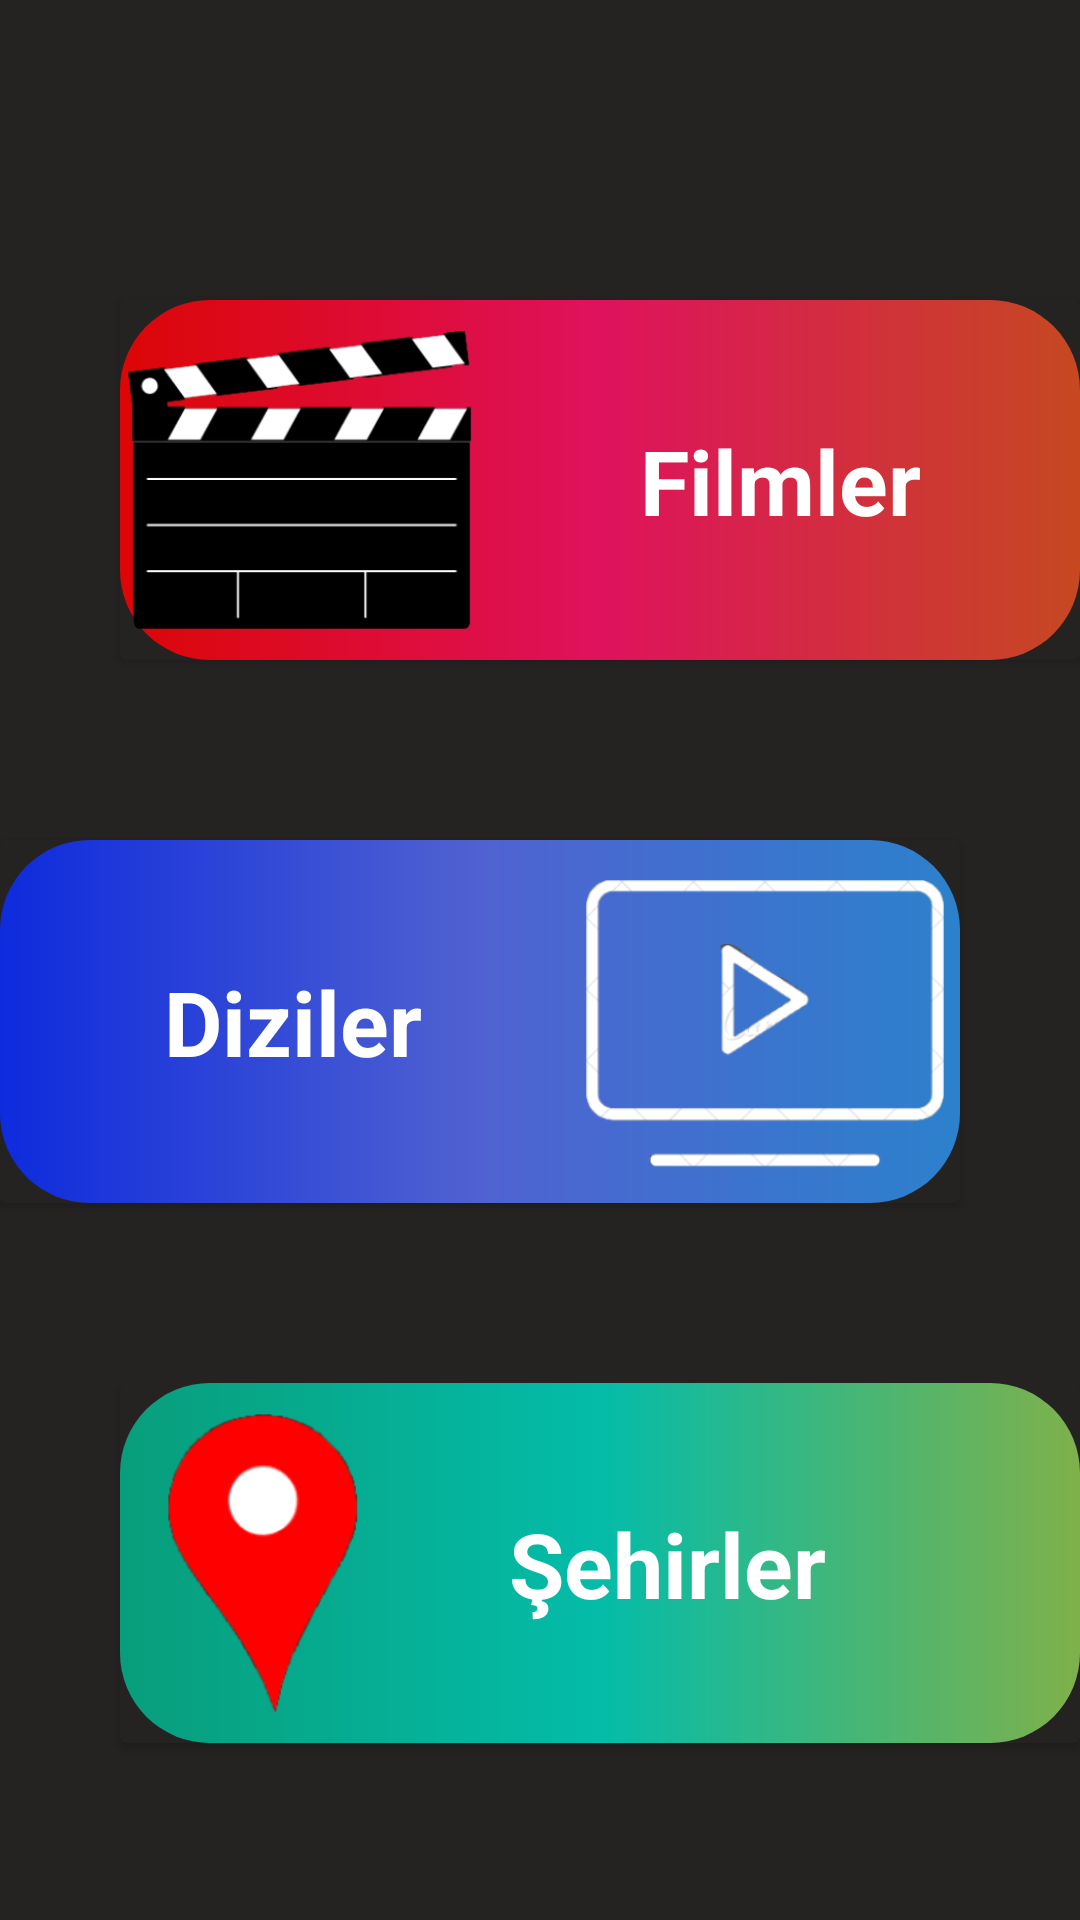

Screen size 1080w x 1920h. Icon name, then its center in pixels as (x=x, y=y):
city: (x=239, y=1563)
movie: (x=300, y=480)
serie: (x=765, y=1023)
